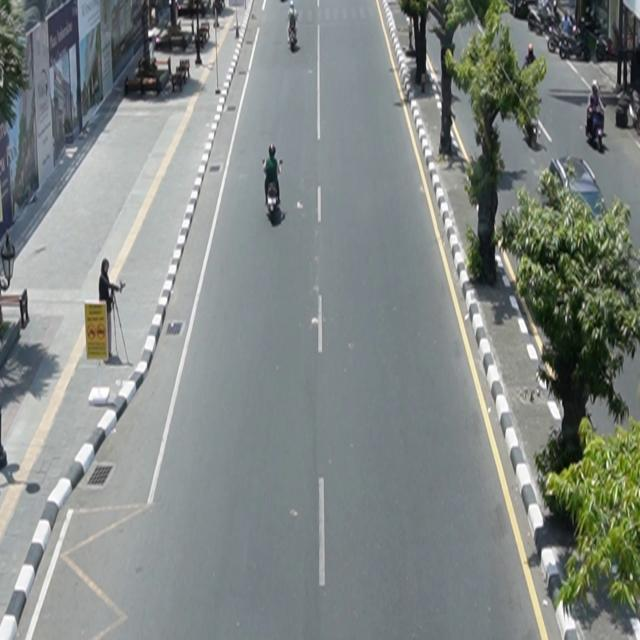car: (544, 156, 606, 223)
